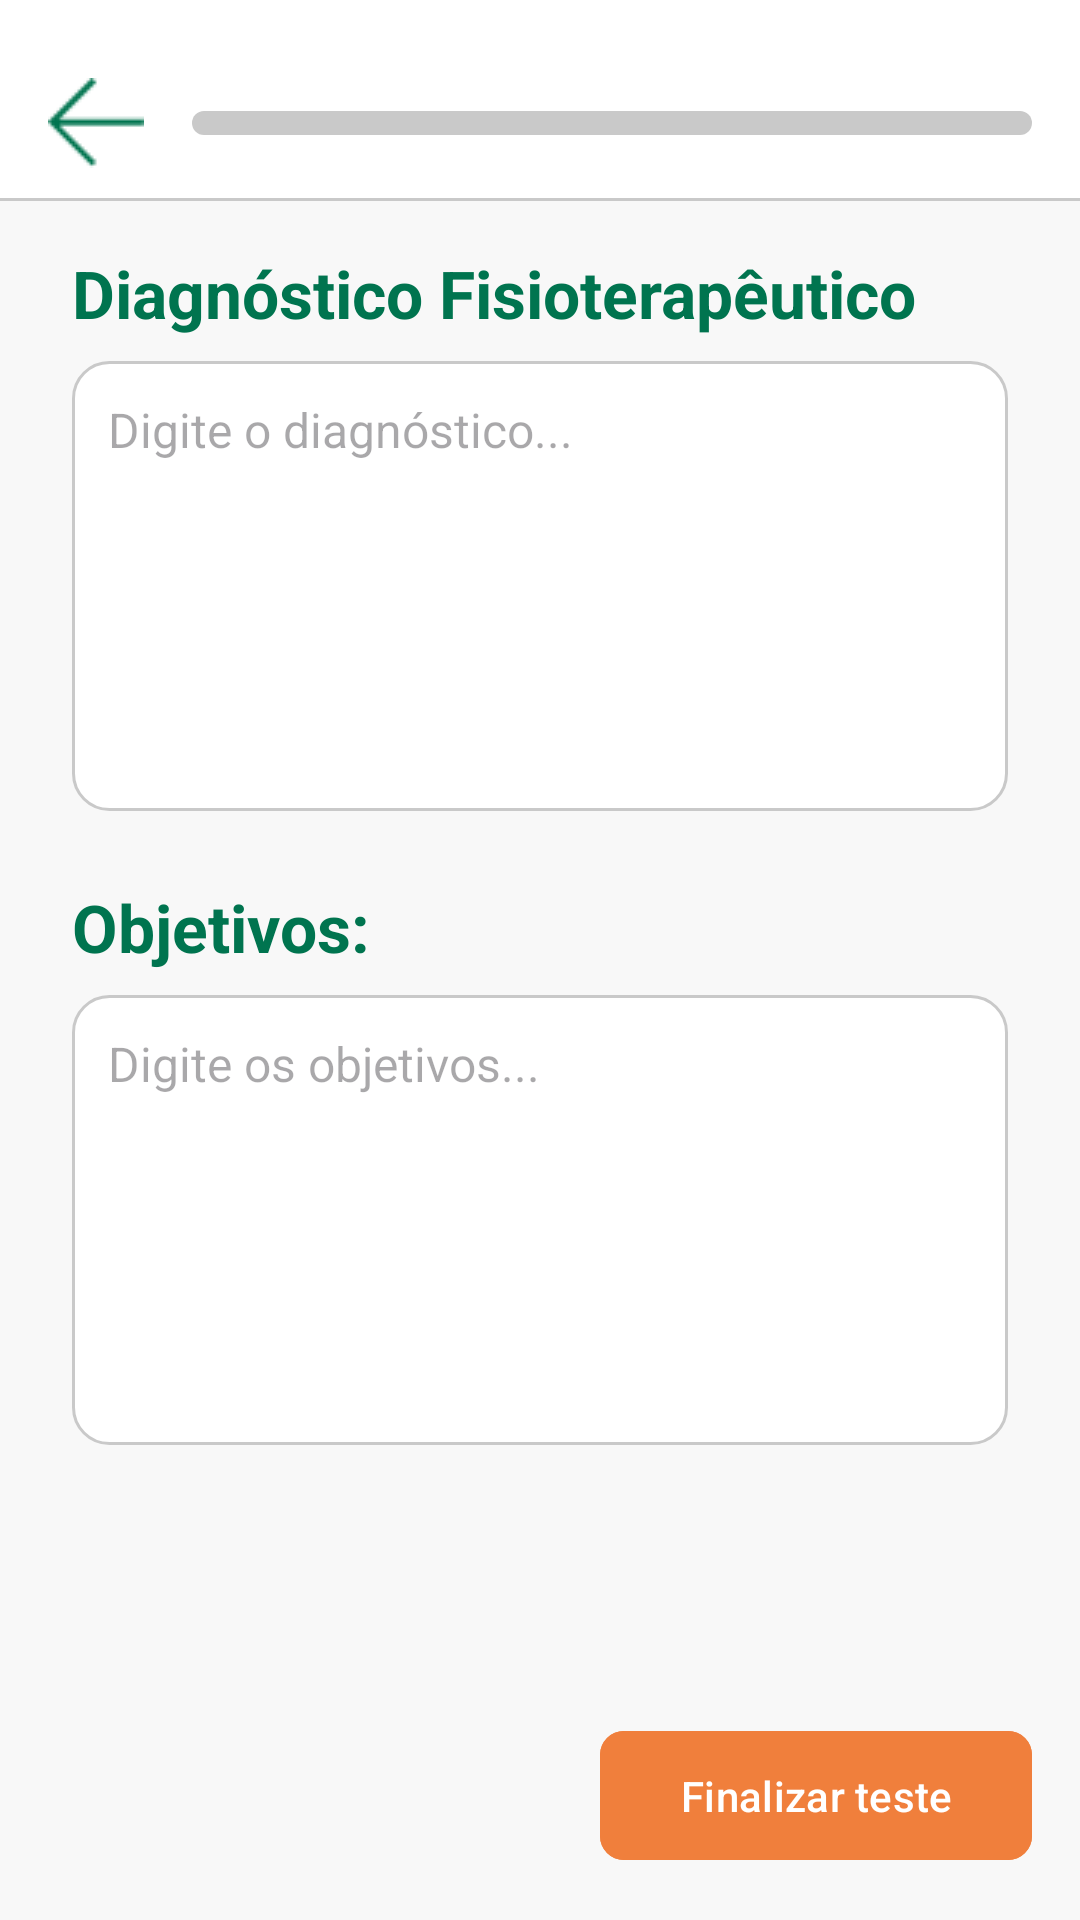

Icon click points for this 1080 x 1920 phone screenshot, format [x,y]:
Voltar: [96,122]
